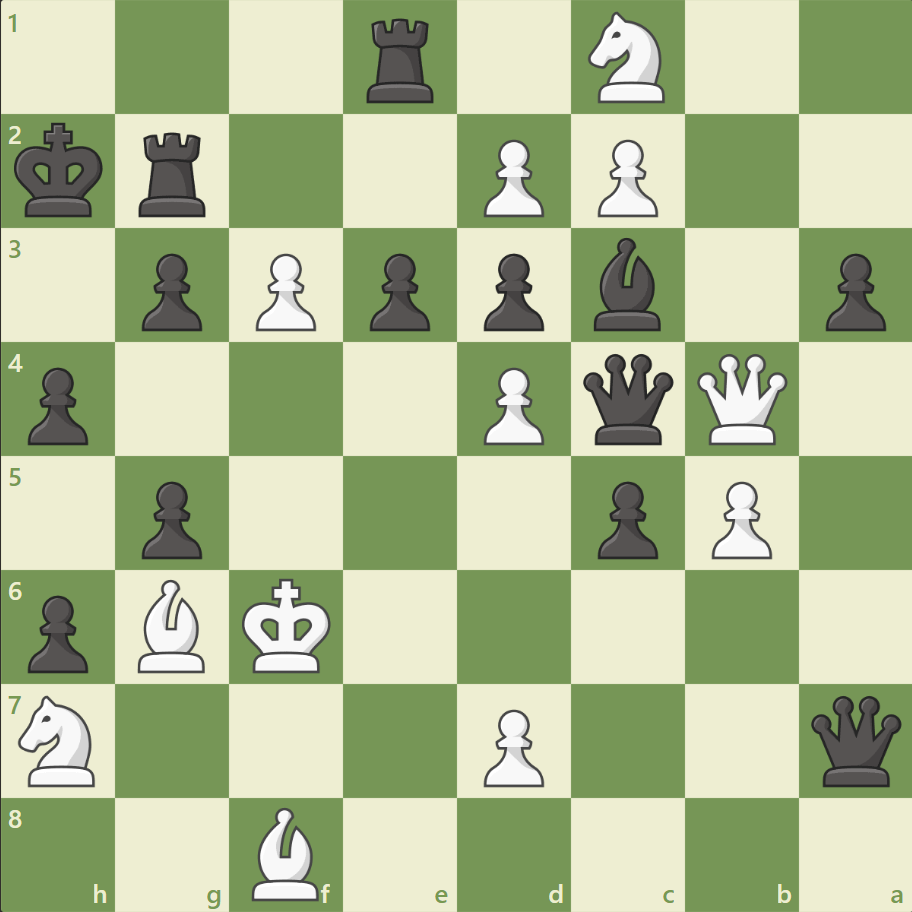B: (244, 801, 328, 904), (131, 574, 215, 676)
K: (238, 571, 338, 679)
N: (11, 688, 108, 791), (579, 7, 676, 110)
P: (474, 700, 549, 791), (701, 473, 776, 564), (474, 359, 549, 450), (247, 246, 322, 337), (474, 132, 549, 223), (588, 132, 662, 223)
Q: (691, 349, 790, 449)
b: (585, 233, 669, 336)
k: (11, 117, 111, 225)
p: (20, 586, 95, 677), (133, 473, 208, 564), (20, 359, 95, 450), (474, 246, 549, 337), (133, 246, 208, 337), (588, 473, 662, 564), (815, 246, 889, 337), (361, 246, 435, 337)
q: (578, 349, 677, 449), (805, 690, 904, 789)
r: (133, 125, 215, 222), (360, 12, 442, 109)
